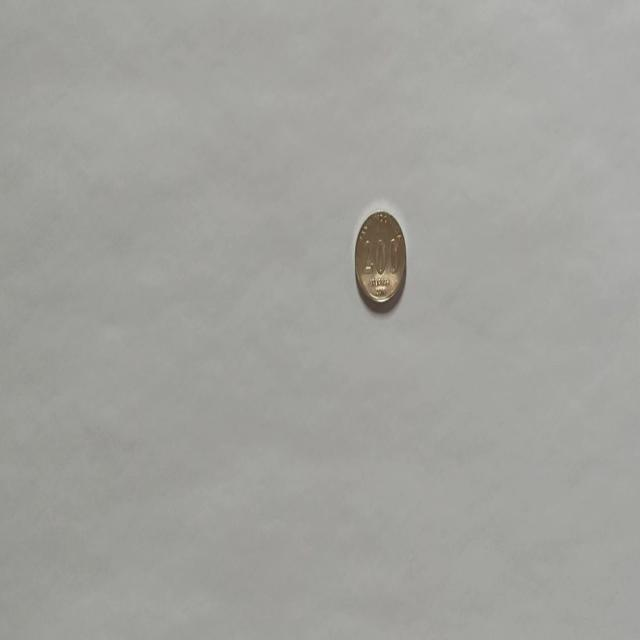dua ratus rupiah: (354, 208, 406, 308)
